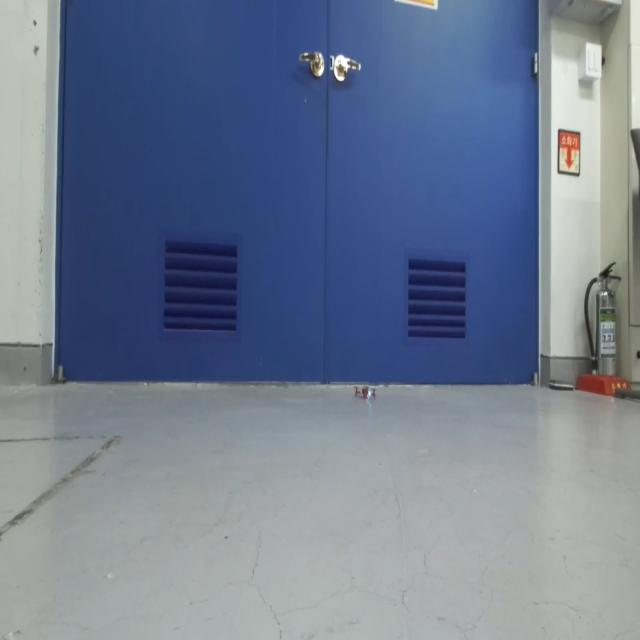crazyflie: (352, 380, 379, 404)
